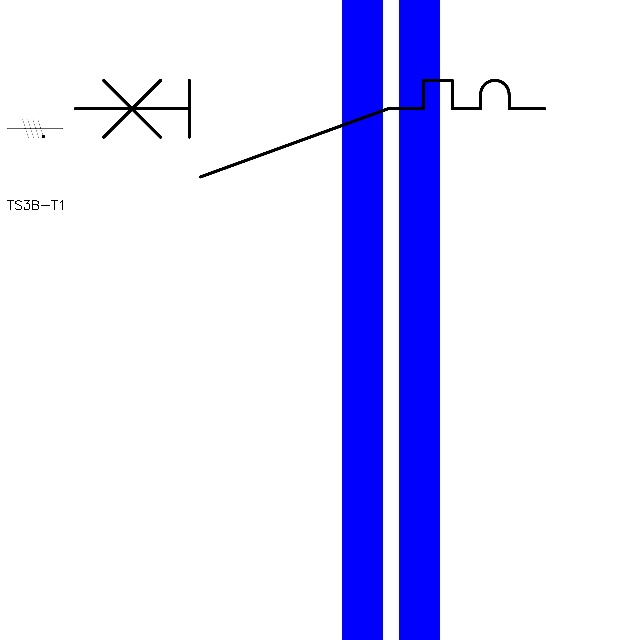interruptor_termomagnetico: (62, 68, 556, 189)
